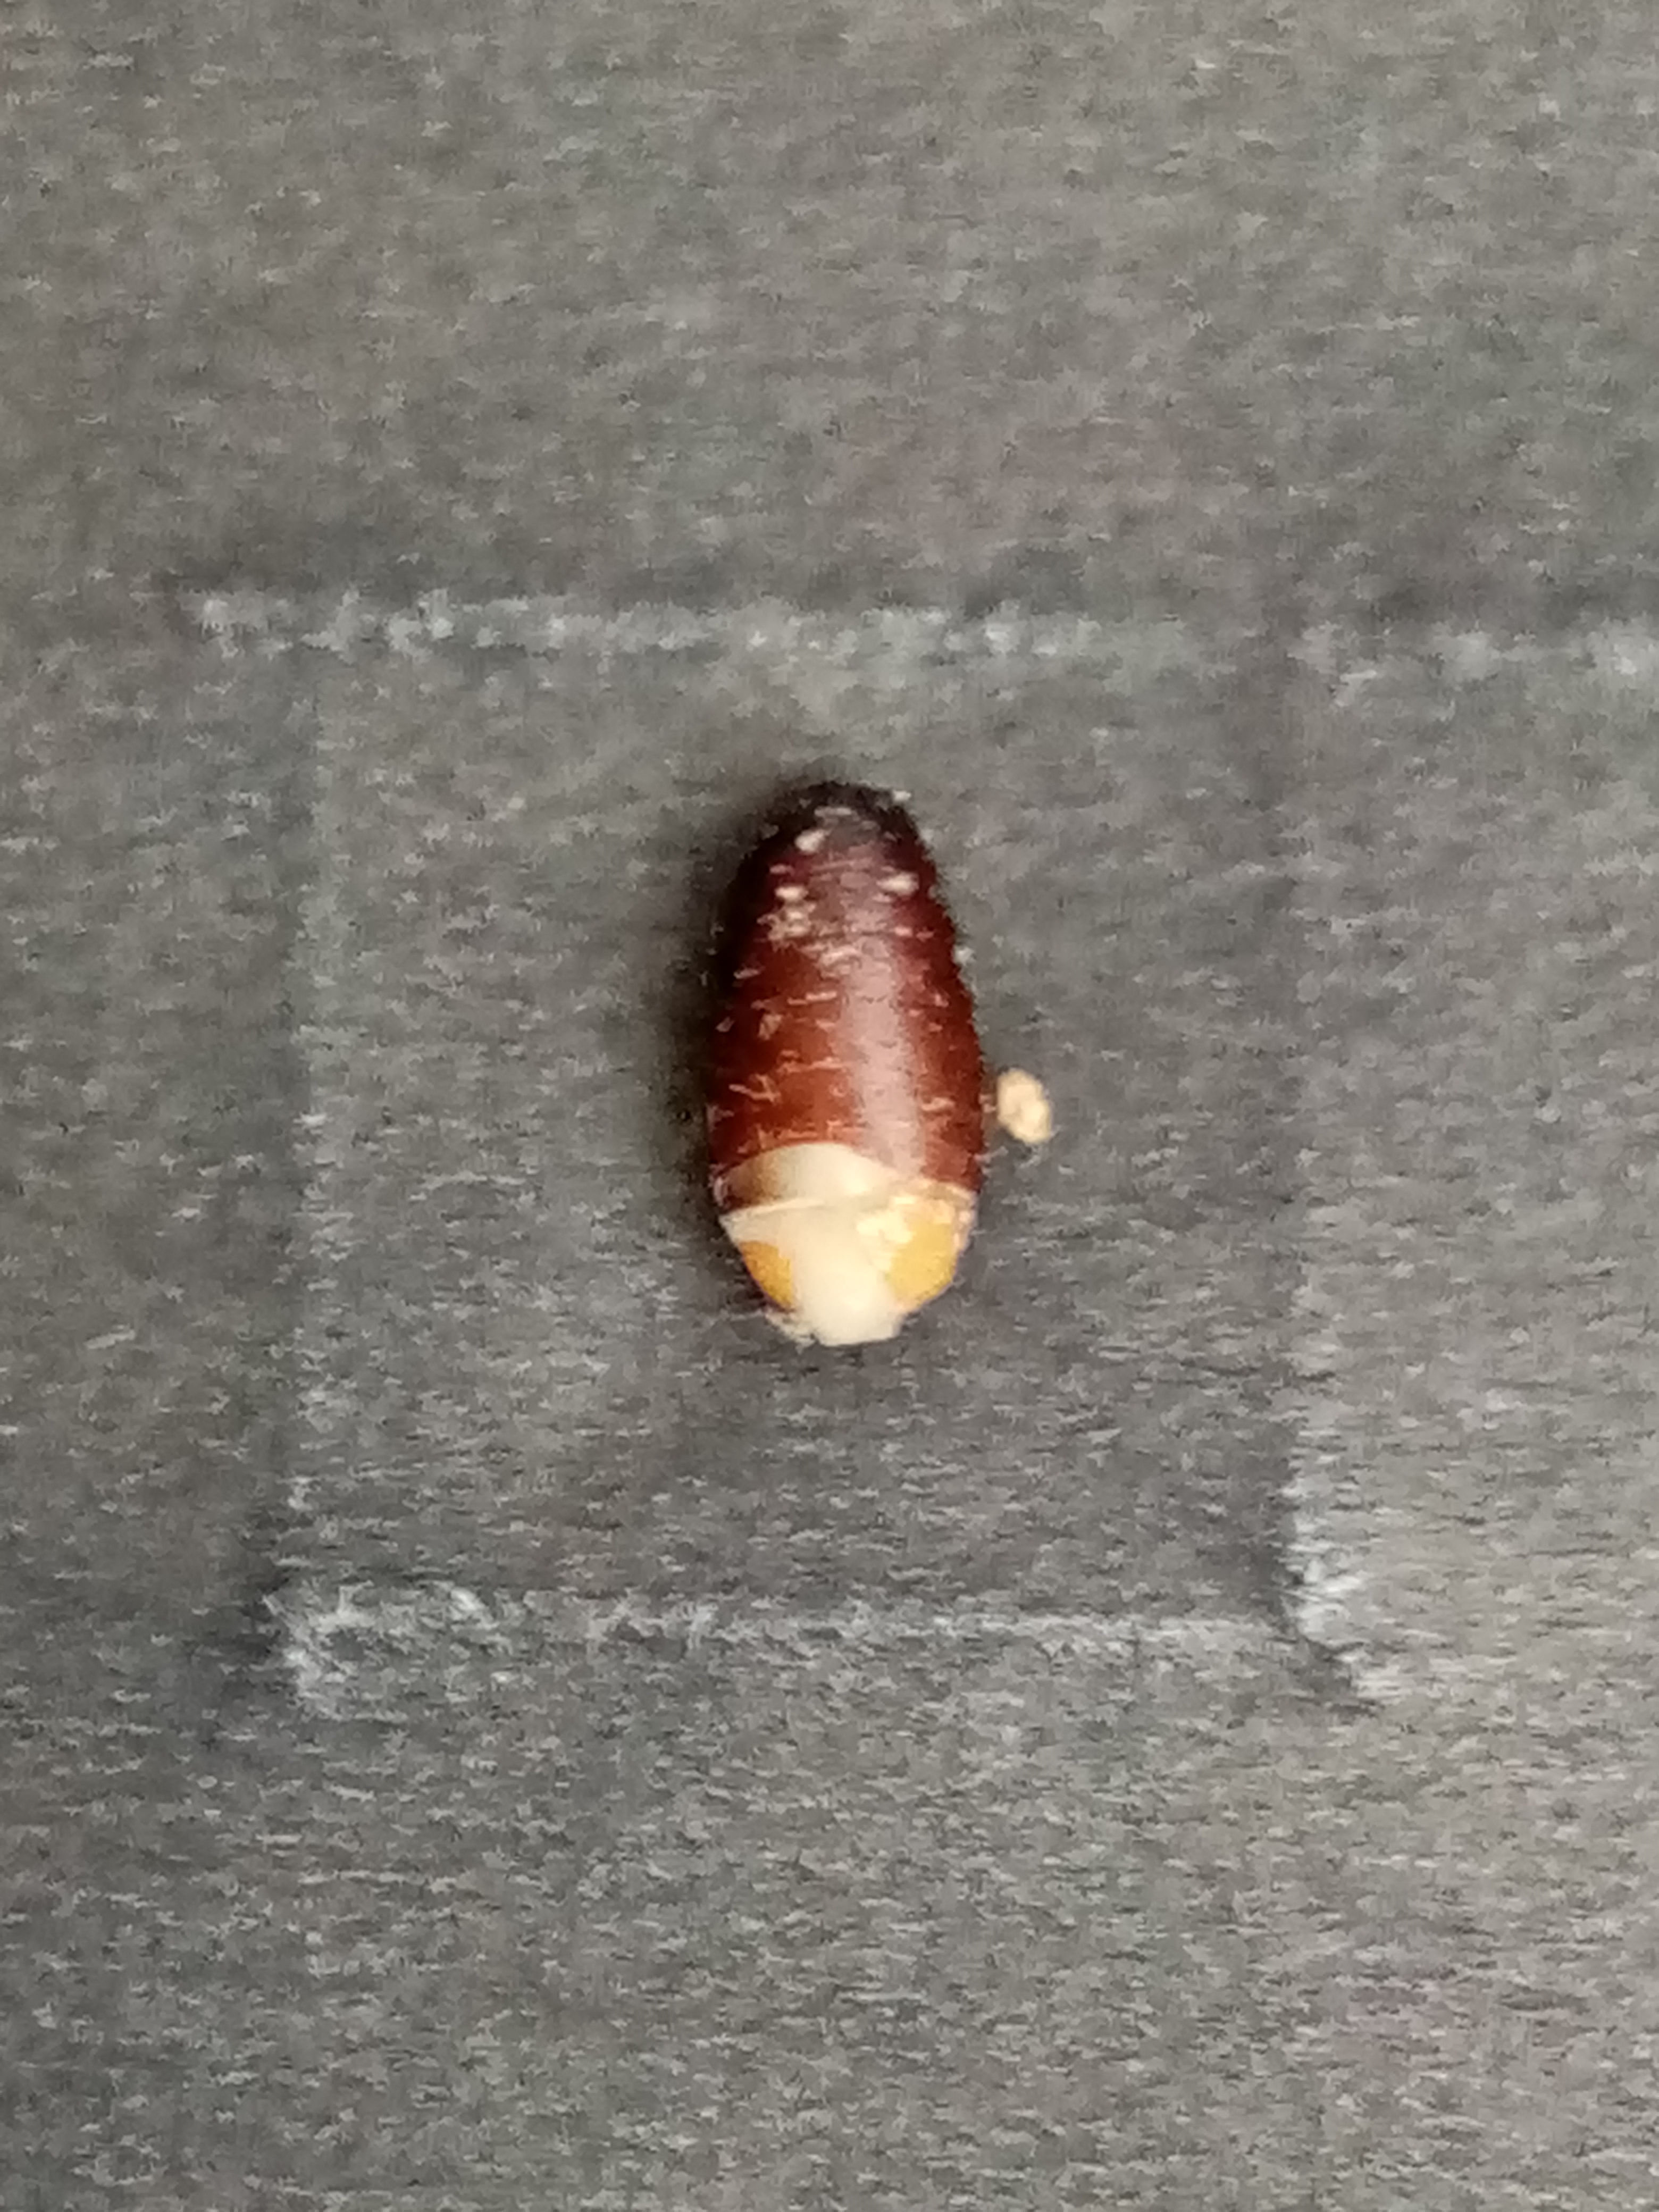pupa: (708, 1186, 983, 1343)
